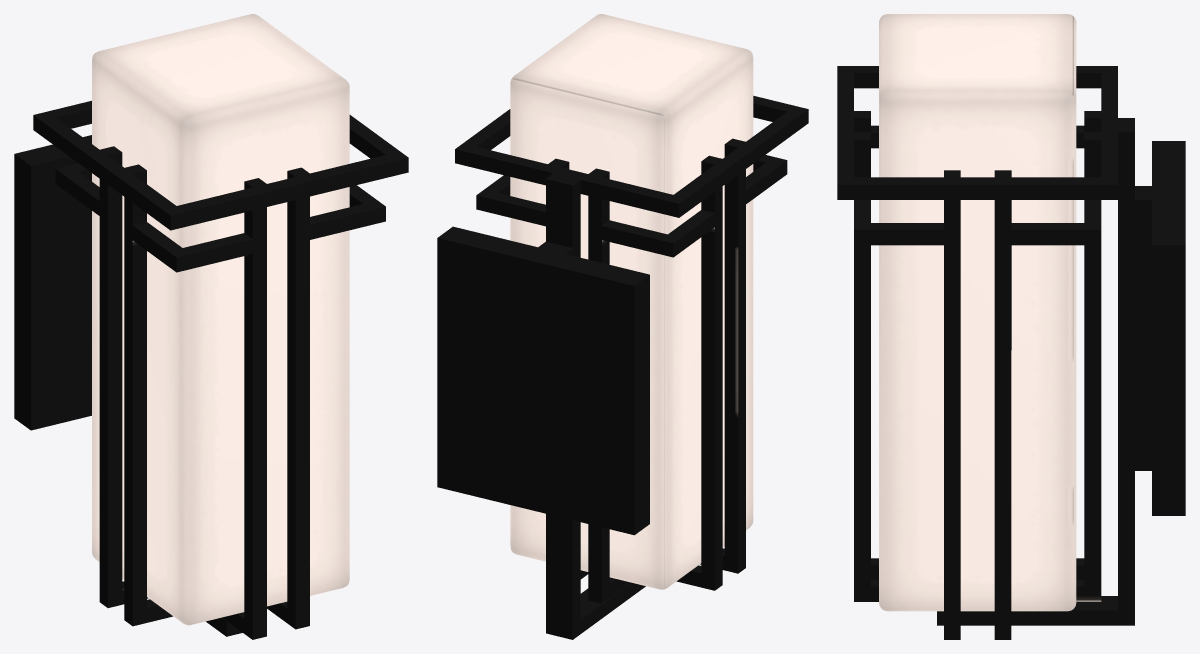
3 views of the same model, side by side, from view 1: azimuth 30°, elevation 25°; view 2: azimuth 150°, elevation 25°; view 3: azimuth 270°, elevation 25° (orthographic). The views are drawn at different scales.
Parts seen in each view (by area): view 1: #LMP0006_Deco_Wall_Metal_Black; view 2: #LMP0006_Deco_Wall_Metal_Black; view 3: #LMP0006_Deco_Wall_Metal_Black.
Boxes of the visible parts, x1,y1,x2,y2 form: #LMP0006_Deco_Wall_Metal_Black: (14, 14, 408, 639); #LMP0006_Deco_Wall_Metal_Black: (437, 14, 808, 639); #LMP0006_Deco_Wall_Metal_Black: (837, 14, 1185, 639).
Size of the model in its own units: 0.189 by 0.4199 by 0.2345.
Materials: 1 (1 with a texture image).
